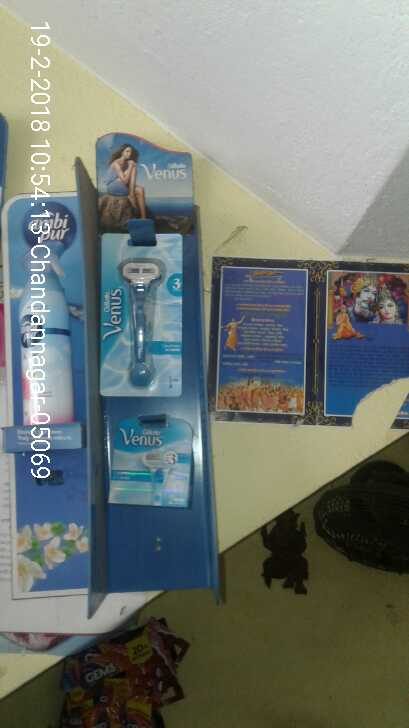beauty: (99, 234, 188, 397), (96, 418, 203, 519)
home: (10, 250, 69, 426)
